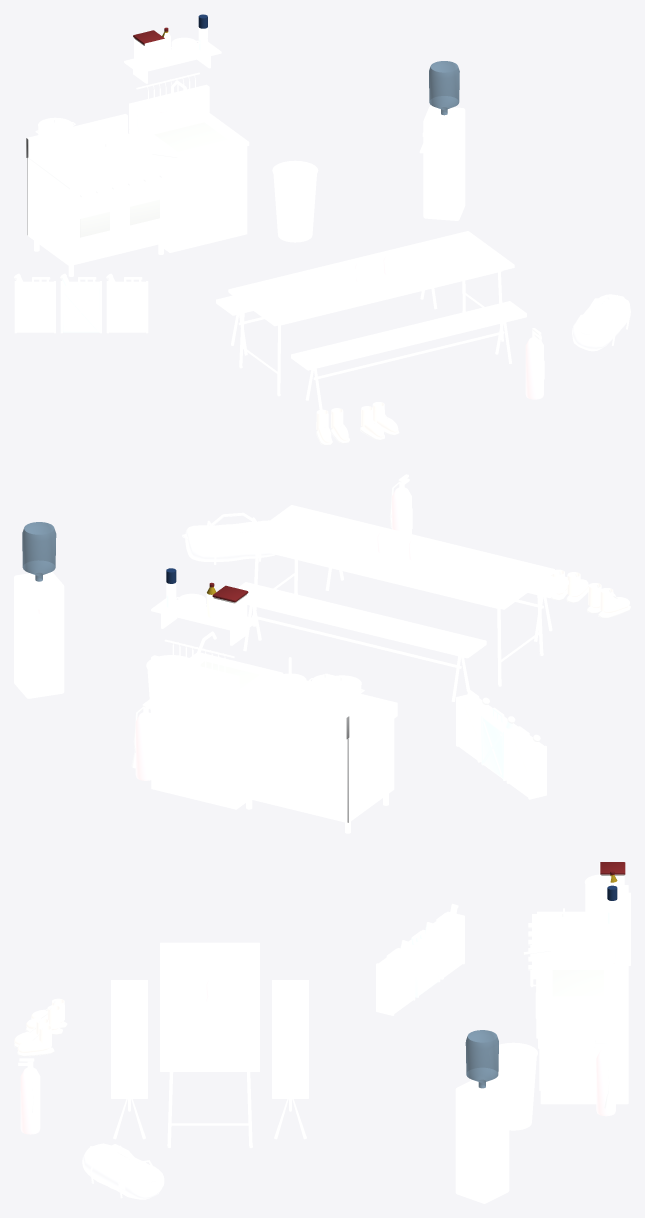
File: polarchief-fitout.glb
3 renders of one model, top to bottom at view 1: azimuth 30°, elevation 25°; view 2: azimuth 150°, elevation 25°; view 3: azimuth 270°, elevation 25°, orthographic. The views are drawn at different scales.
Visible parts, largest first — view 1: POLARCHIEF_fitout; view 2: POLARCHIEF_fitout; view 3: POLARCHIEF_fitout.
Boxes of the visible parts, x1,y1,x2,y2 form: POLARCHIEF_fitout: (14, 14, 630, 445); POLARCHIEF_fitout: (14, 474, 630, 833); POLARCHIEF_fitout: (14, 862, 630, 1203).
Bounding box in the file's own units: 4.73 × 1.89 × 4.98.
